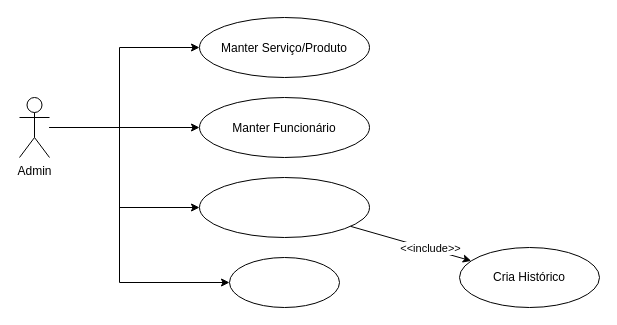
Image size: 617x325. Some labels were removed from this diagram. The shapes that lost their labels are listed below. From the top down, each one's centre as x and y in pixels, then its label:
At (x=284, y=207): "Manter Ordens de Serviço".
At (x=284, y=282): "Logar".
